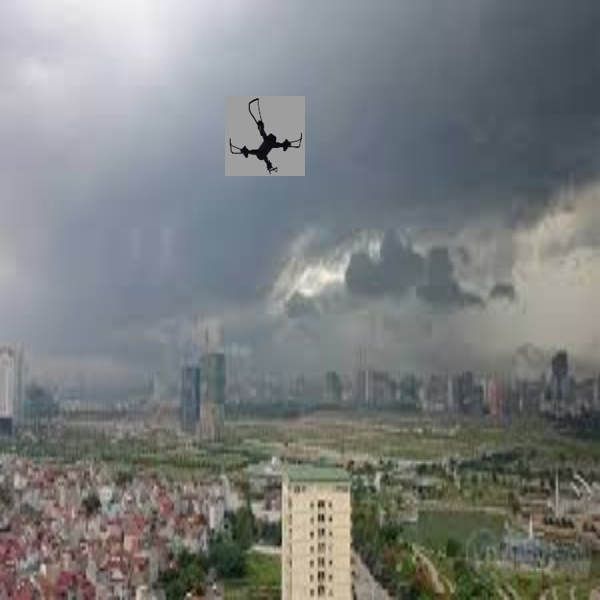drone: (227, 94, 305, 176)
